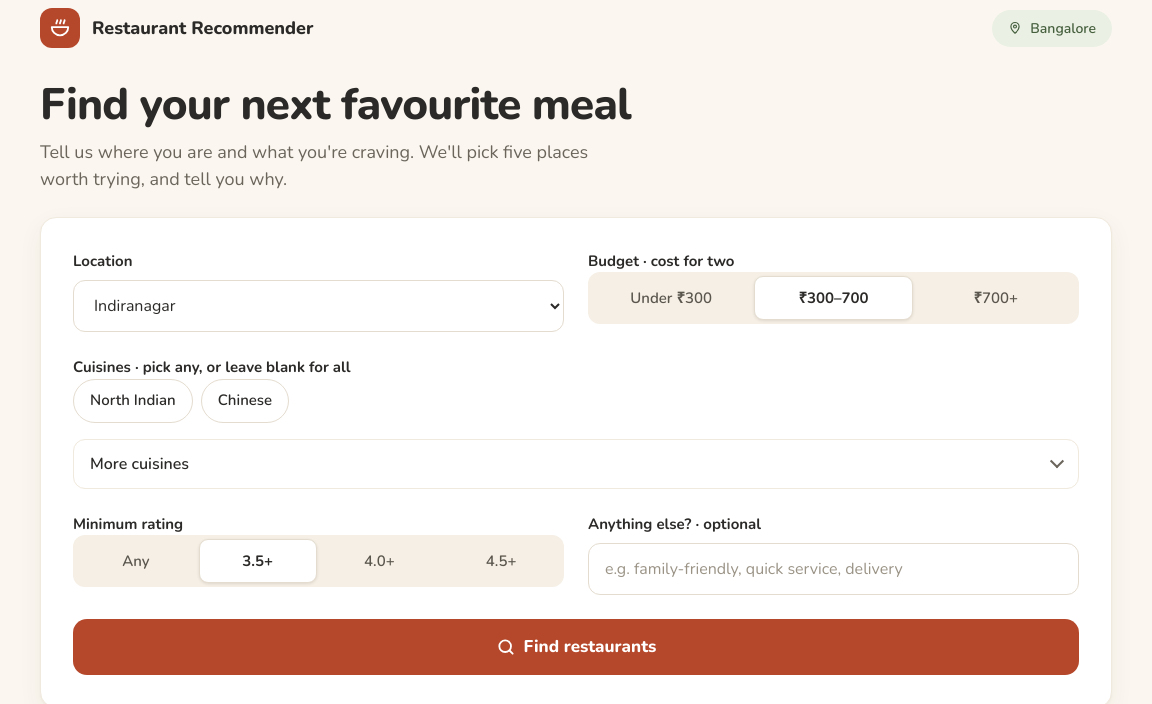
Test: Recommender › shows the kitchen message when the backend is down on submit
This screenshot has width=1152, height=704.
Click the button "Find restaurants": [576, 647] box [73, 619, 1079, 675]
(page scrolled)
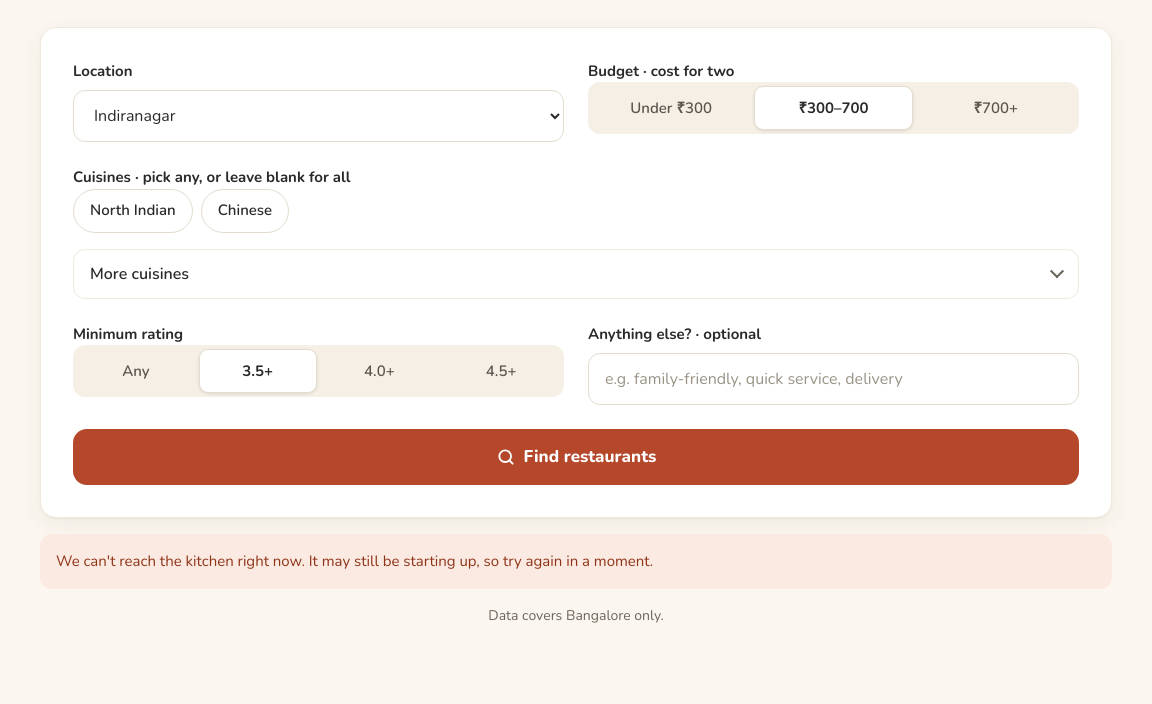
Result: the message shows "may still be starting up" at [56, 551, 653, 571]
